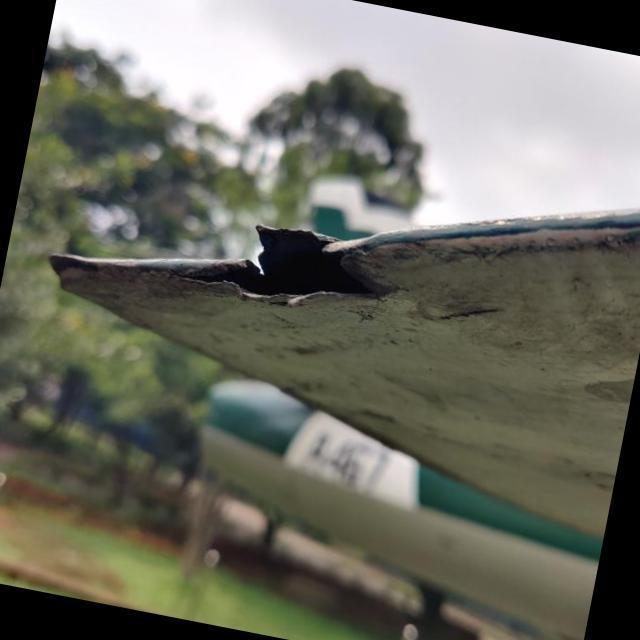Rupture: (146, 180, 420, 348)
